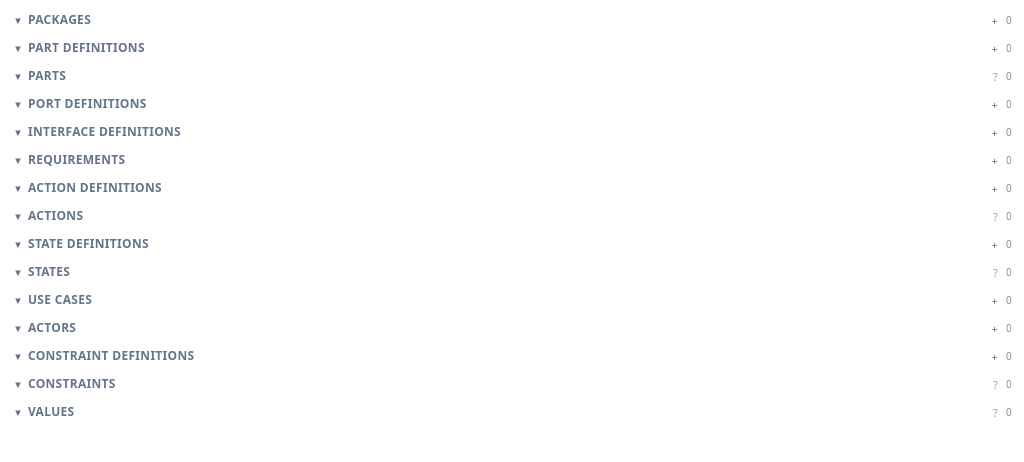
Scenario: <ProjectTree /> › "+" affordance for Requirement uses the correct singular label
Click the button with test id "project-tree-group-create-Requirement" at (995, 160), box x1=987 y1=154 x2=1002 y2=166
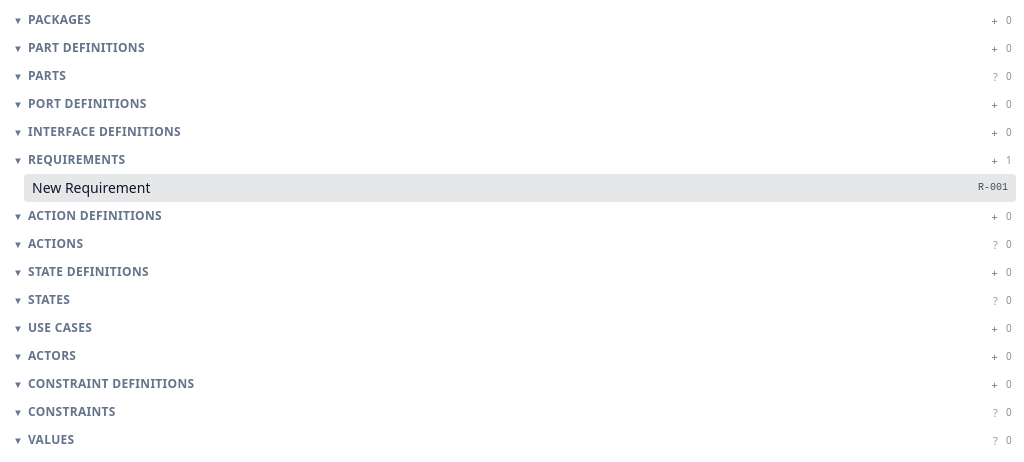
Expected: the text "New Requirement" is shown, x1=32 y1=178 x2=150 y2=198
